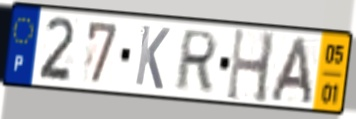2: (36, 15, 76, 83)
7: (86, 20, 118, 86)
A: (267, 34, 315, 107)
H: (224, 25, 278, 106)
K: (133, 22, 172, 93)
R: (172, 27, 221, 93)
